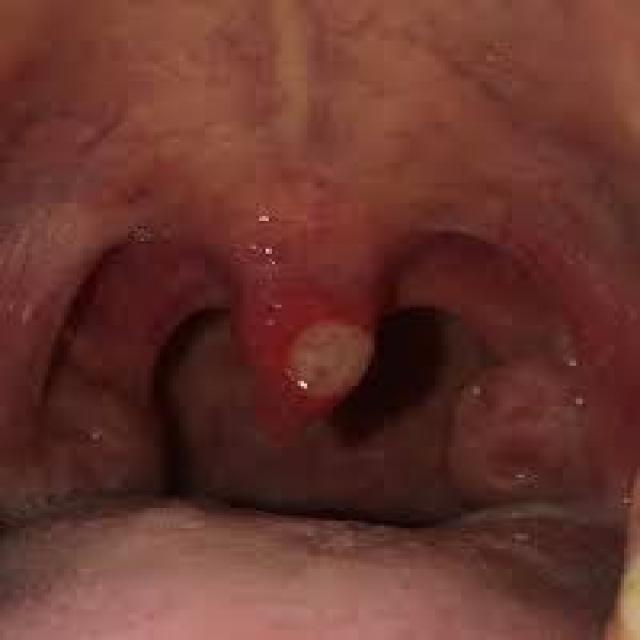processing_area: (1, 1, 637, 637)
ulcer-detection: (246, 280, 387, 422)
